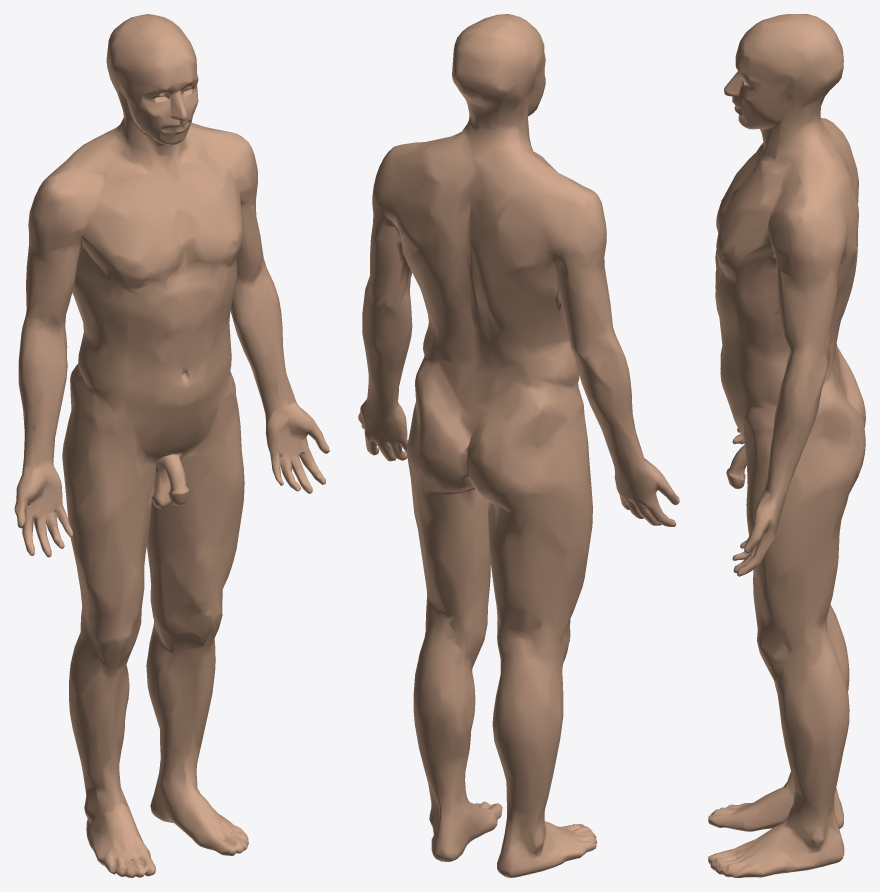
Rendered from meridian-anatomy-v1.glb.
3 views of the same model, side by side, from view 1: azimuth 30°, elevation 25°; view 2: azimuth 150°, elevation 25°; view 3: azimuth 270°, elevation 25° (orthographic). The views are drawn at different scales.
Visible parts, largest first — view 1: Skin_Body; view 2: Skin_Body; view 3: Skin_Body.
Boxes of the visible parts, left/top/right/bottom form: Skin_Body: left=14, top=14, right=329, bottom=877; Skin_Body: left=358, top=14, right=679, bottom=877; Skin_Body: left=708, top=14, right=865, bottom=877.
Bounding box in the file's own units: 0.7161 × 1.8 × 0.3103.
